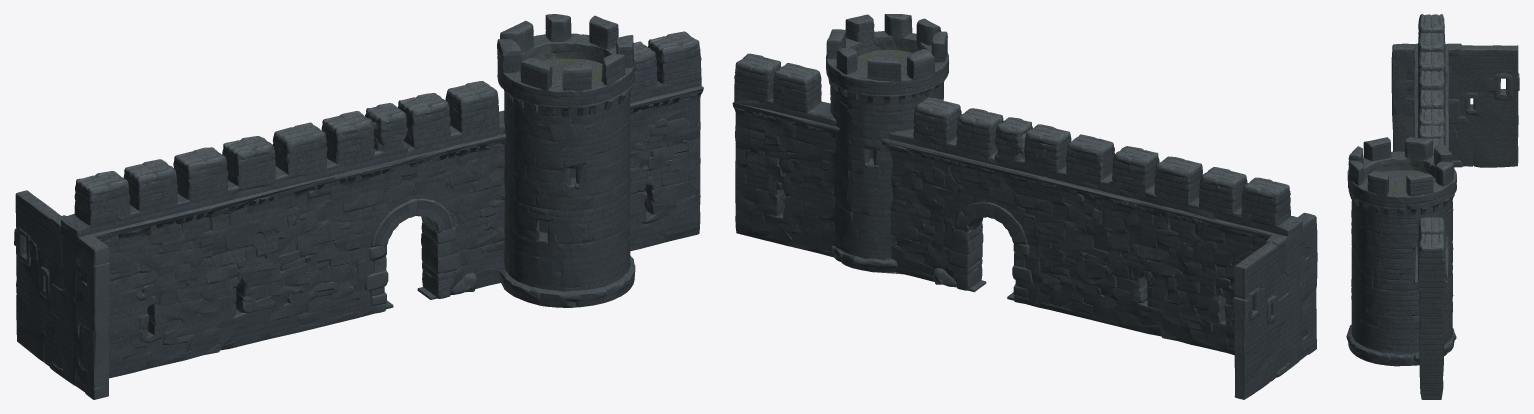
The model's file is env-fortress.glb.
3 views of the same model, side by side, from view 1: azimuth 30°, elevation 25°; view 2: azimuth 150°, elevation 25°; view 3: azimuth 270°, elevation 25° (orthographic). The views are drawn at different scales.
Size of the model in its own units: 1.9 by 0.6979 by 0.5805.
Materials: 1 (1 with a texture image).
